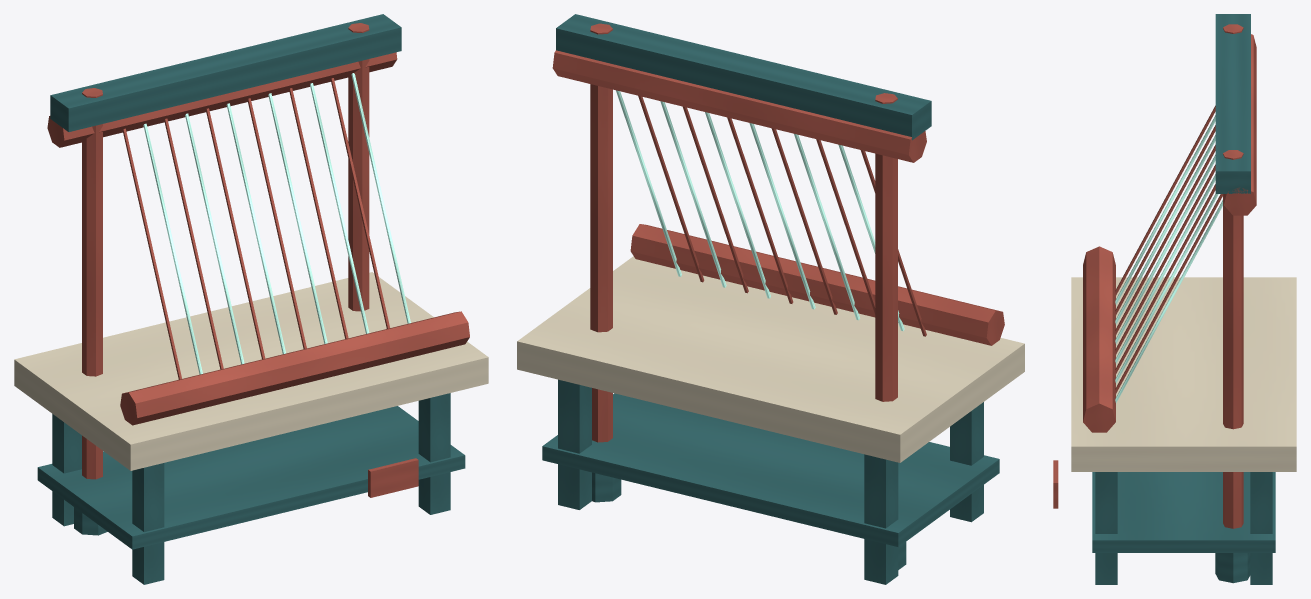
File: atlas100-s033-a02.lod1.glb
The picture shows the model from 3 angles, left to right: view 1: azimuth 30°, elevation 25°; view 2: azimuth 150°, elevation 25°; view 3: azimuth 270°, elevation 25°; orthographic projection. The views are drawn at different scales.
Visible parts, largest first — view 1: atlas100-s033-a02:part-004, atlas100-s033-a02:part-005, atlas100-s033-a02:part-010, atlas100-s033-a02:part-024, atlas100-s033-a02:part-006, atlas100-s033-a02:part-008, atlas100-s033-a02:part-025, atlas100-s033-a02:part-001, atlas100-s033-a02:part-003, atlas100-s033-a02:part-000, atlas100-s033-a02:part-026, atlas100-s033-a02:part-014 (+11 smaller); view 2: atlas100-s033-a02:part-004, atlas100-s033-a02:part-005, atlas100-s033-a02:part-010, atlas100-s033-a02:part-024, atlas100-s033-a02:part-025, atlas100-s033-a02:part-008, atlas100-s033-a02:part-006, atlas100-s033-a02:part-000, atlas100-s033-a02:part-002, atlas100-s033-a02:part-001, atlas100-s033-a02:part-019, atlas100-s033-a02:part-016 (+9 smaller); view 3: atlas100-s033-a02:part-004, atlas100-s033-a02:part-005, atlas100-s033-a02:part-010, atlas100-s033-a02:part-024, atlas100-s033-a02:part-008, atlas100-s033-a02:part-002, atlas100-s033-a02:part-003, atlas100-s033-a02:part-025, atlas100-s033-a02:part-009, atlas100-s033-a02:part-023, atlas100-s033-a02:part-022, atlas100-s033-a02:part-021 (+9 smaller).
Boxes of the visible parts, box(x1,y1,x2,y2) form: atlas100-s033-a02:part-004: box(14, 272, 488, 470); atlas100-s033-a02:part-005: box(37, 406, 465, 549); atlas100-s033-a02:part-010: box(50, 14, 401, 131); atlas100-s033-a02:part-024: box(120, 311, 469, 425); atlas100-s033-a02:part-006: box(82, 88, 102, 479); atlas100-s033-a02:part-008: box(348, 23, 369, 311); atlas100-s033-a02:part-025: box(47, 52, 397, 147); atlas100-s033-a02:part-001: box(132, 463, 164, 584); atlas100-s033-a02:part-003: box(418, 393, 450, 514); atlas100-s033-a02:part-000: box(52, 414, 81, 526); atlas100-s033-a02:part-026: box(368, 458, 418, 497); atlas100-s033-a02:part-014: box(164, 118, 223, 369); atlas100-s033-a02:part-004: box(517, 256, 1024, 462); atlas100-s033-a02:part-005: box(542, 393, 999, 547); atlas100-s033-a02:part-010: box(556, 14, 931, 140); atlas100-s033-a02:part-024: box(630, 224, 1004, 345); atlas100-s033-a02:part-025: box(552, 50, 926, 162); atlas100-s033-a02:part-008: box(590, 23, 612, 442); atlas100-s033-a02:part-006: box(875, 93, 897, 401); atlas100-s033-a02:part-000: box(864, 454, 898, 584); atlas100-s033-a02:part-002: box(558, 379, 591, 509); atlas100-s033-a02:part-001: box(950, 402, 983, 522); atlas100-s033-a02:part-019: box(705, 112, 770, 298); atlas100-s033-a02:part-016: box(771, 128, 837, 314); atlas100-s033-a02:part-004: box(1071, 277, 1296, 471); atlas100-s033-a02:part-005: box(1092, 472, 1275, 552); atlas100-s033-a02:part-010: box(1215, 14, 1250, 193); atlas100-s033-a02:part-024: box(1083, 246, 1115, 432); atlas100-s033-a02:part-008: box(1223, 150, 1243, 528); atlas100-s033-a02:part-002: box(1250, 472, 1272, 584); atlas100-s033-a02:part-003: box(1095, 472, 1117, 584); atlas100-s033-a02:part-025: box(1224, 34, 1256, 215); atlas100-s033-a02:part-009: box(1215, 553, 1250, 583); atlas100-s033-a02:part-023: box(1115, 200, 1222, 403); atlas100-s033-a02:part-022: box(1115, 194, 1222, 393); atlas100-s033-a02:part-021: box(1115, 194, 1218, 383).
Size of the model in its own units: 2.84 by 3.3 by 1.73.
Materials: 4 (4 with a texture image).
